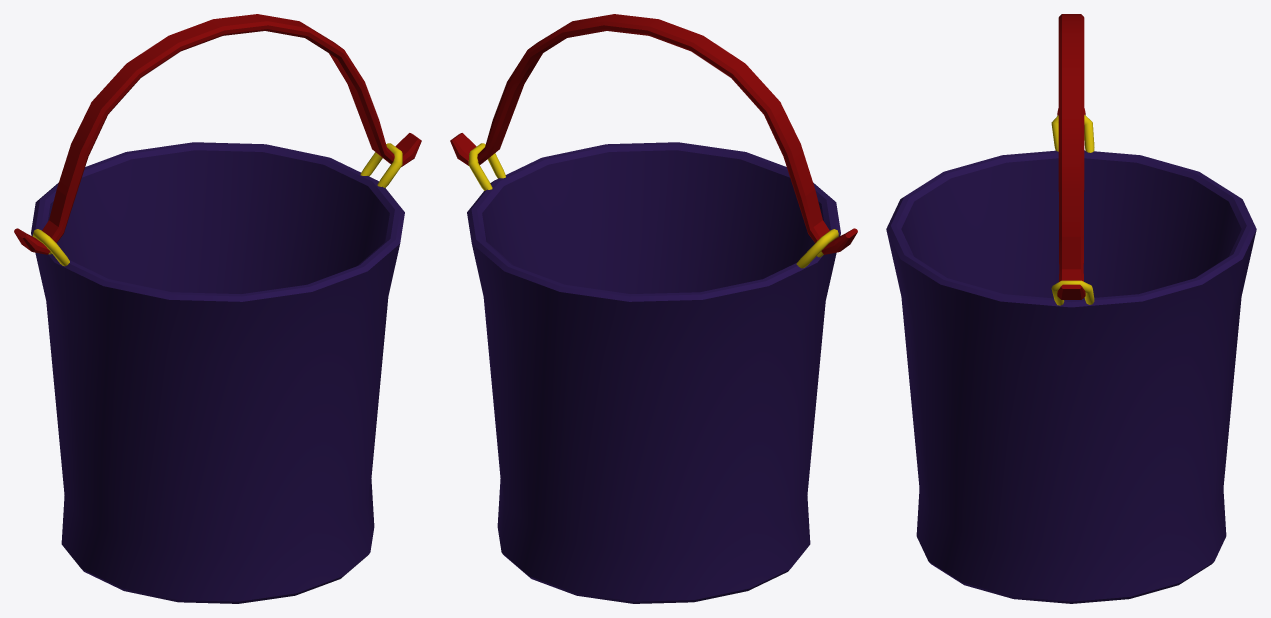
The model's file is Bucket.FBX.
The picture shows the model from 3 angles, left to right: view 1: azimuth 30°, elevation 25°; view 2: azimuth 150°, elevation 25°; view 3: azimuth 270°, elevation 25°; orthographic projection.
Visible parts, largest first — view 1: Bucket; view 2: Bucket; view 3: Bucket.
Boxes of the visible parts, box(x1,y1,x2,y2) form: Bucket: box(14, 14, 421, 603); Bucket: box(450, 14, 857, 603); Bucket: box(886, 14, 1256, 603).
Bounding box in the file's own units: 886 × 725 × 1094.
